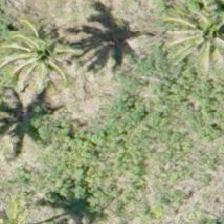Kelapa_Sawit: (0, 22, 74, 112)
